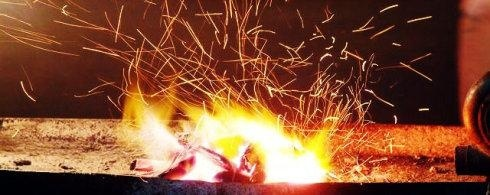fire: (131, 90, 329, 184)
